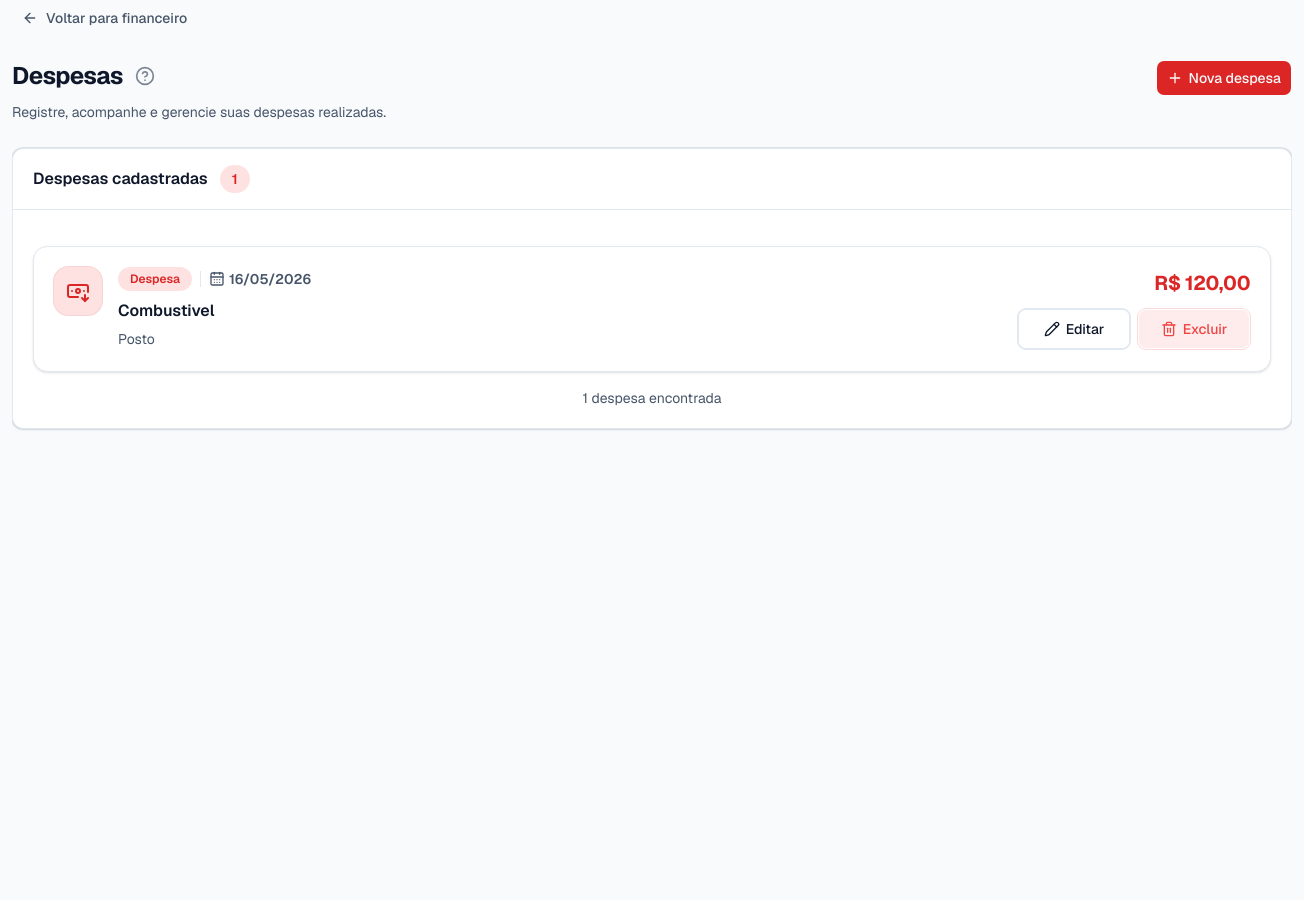
Scenario: FinanceExpensesPageContent › should open edit expense form
This screenshot has width=1304, height=900.
Click the button "Editar": (1074, 329) [1018,309,1130,349]
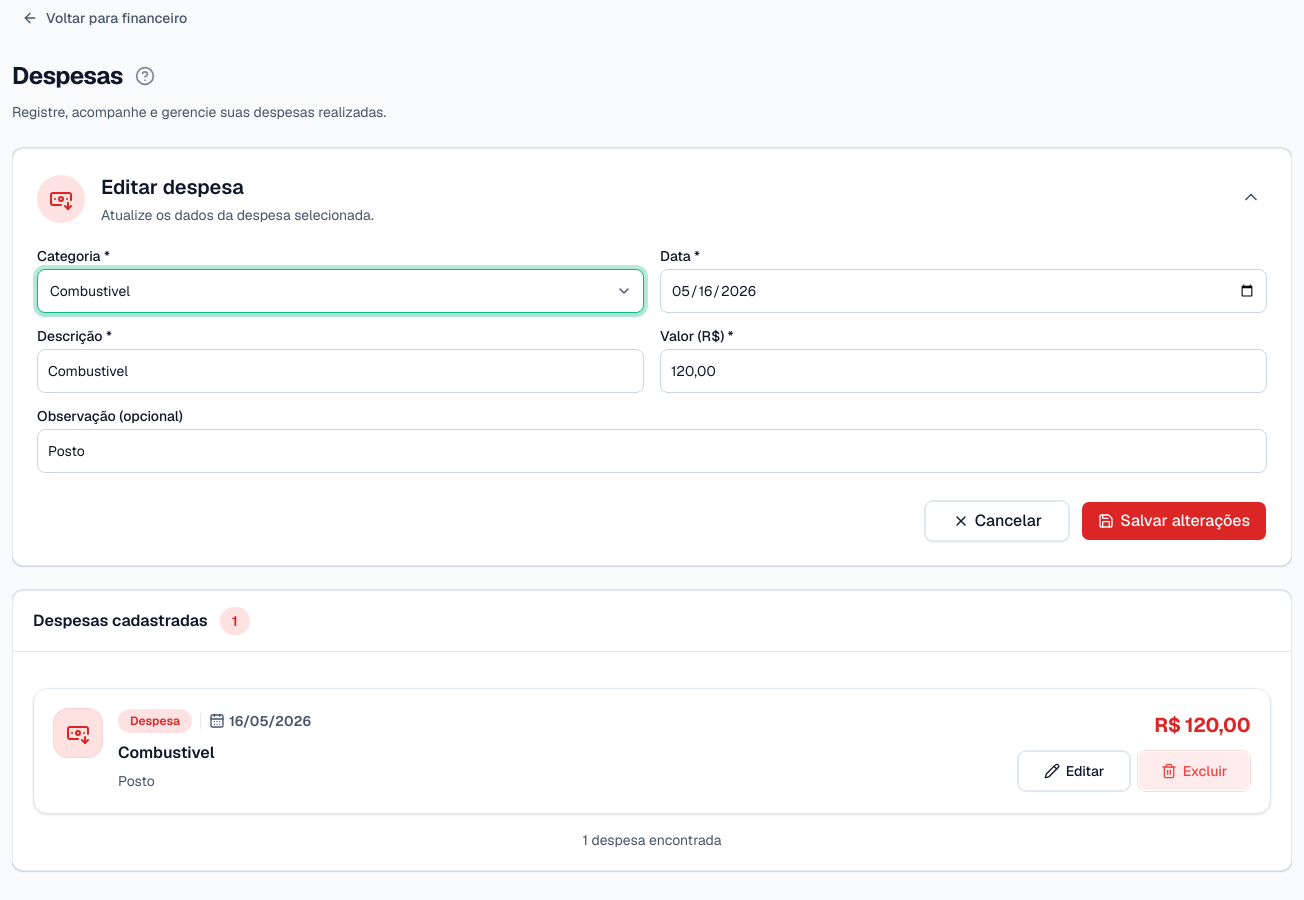
Check: the heading "Editar despesa" is shown, box [101,174,244,200]
Check: the field labelled "Descrição *" holds "Combustivel", box [37,349,644,393]
Check: the field showing "120,00" is shown, box [660,349,1267,393]
